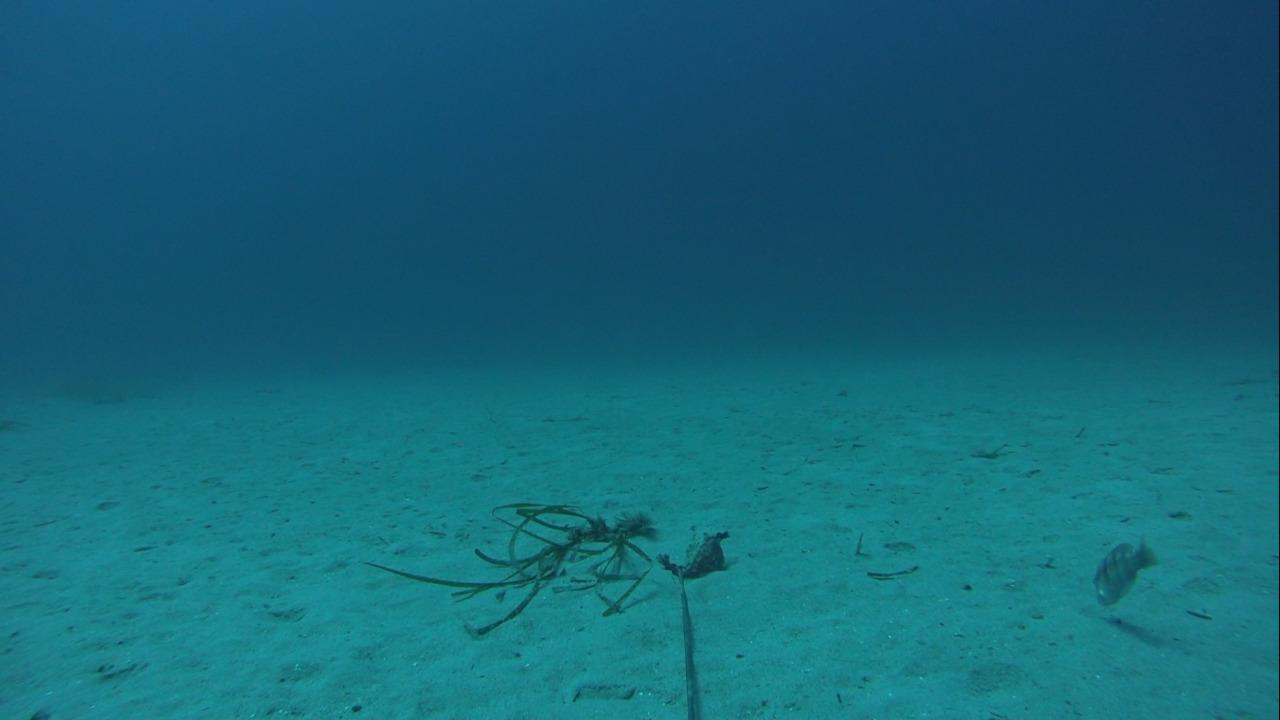raor: (1086, 532, 1164, 610)
